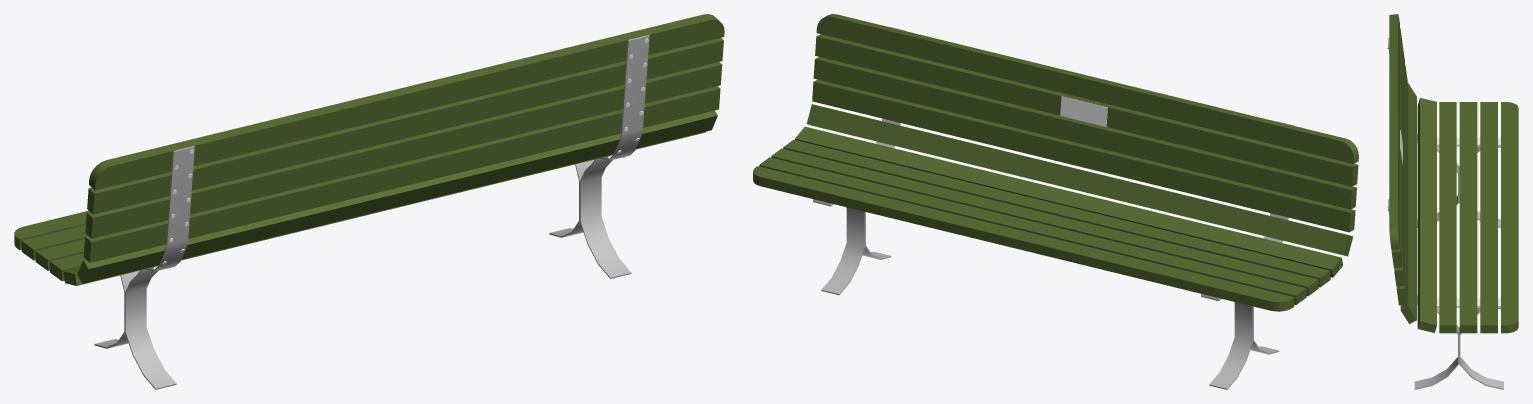
3 views of the same model, side by side, from view 1: azimuth 30°, elevation 25°; view 2: azimuth 150°, elevation 25°; view 3: azimuth 270°, elevation 25° (orthographic). The views are drawn at different scales.
Parts seen in each view (by area): view 1: mesh57_mesh57-geometry, mesh55_mesh55-geometry, mesh38_mesh38-geometry, mesh10_mesh10-geometry; view 2: mesh57_mesh57-geometry, mesh55_mesh55-geometry, mesh16_mesh16-geometry, mesh44_mesh44-geometry, mesh27_mesh27-geometry; view 3: mesh57_mesh57-geometry, mesh55_mesh55-geometry, mesh38_mesh38-geometry, mesh44_mesh44-geometry, mesh10_mesh10-geometry, mesh1_mesh1-geometry, mesh29_mesh29-geometry, mesh16_mesh16-geometry.
Part boxes in pixels (x1,y1,x2,y2): mesh57_mesh57-geometry: (21,38,723,285); mesh55_mesh55-geometry: (14,14,724,250); mesh38_mesh38-geometry: (579,35,649,278); mesh10_mesh10-geometry: (125,146,194,389); mesh57_mesh57-geometry: (759,34,1358,304); mesh55_mesh55-geometry: (753,14,1358,311); mesh16_mesh16-geometry: (1201,296,1253,389); mesh44_mesh44-geometry: (813,201,865,294); mesh27_mesh27-geometry: (1060,96,1107,126); mesh57_mesh57-geometry: (1391,28,1497,333); mesh55_mesh55-geometry: (1389,14,1518,333); mesh38_mesh38-geometry: (1388,199,1459,389); mesh44_mesh44-geometry: (1459,308,1503,389); mesh10_mesh10-geometry: (1388,37,1459,227); mesh1_mesh1-geometry: (1417,134,1500,146); mesh29_mesh29-geometry: (1417,295,1500,307); mesh16_mesh16-geometry: (1459,146,1500,227).
Bounding box in the file's own units: 0.9094 × 0.3497 × 0.2253.
